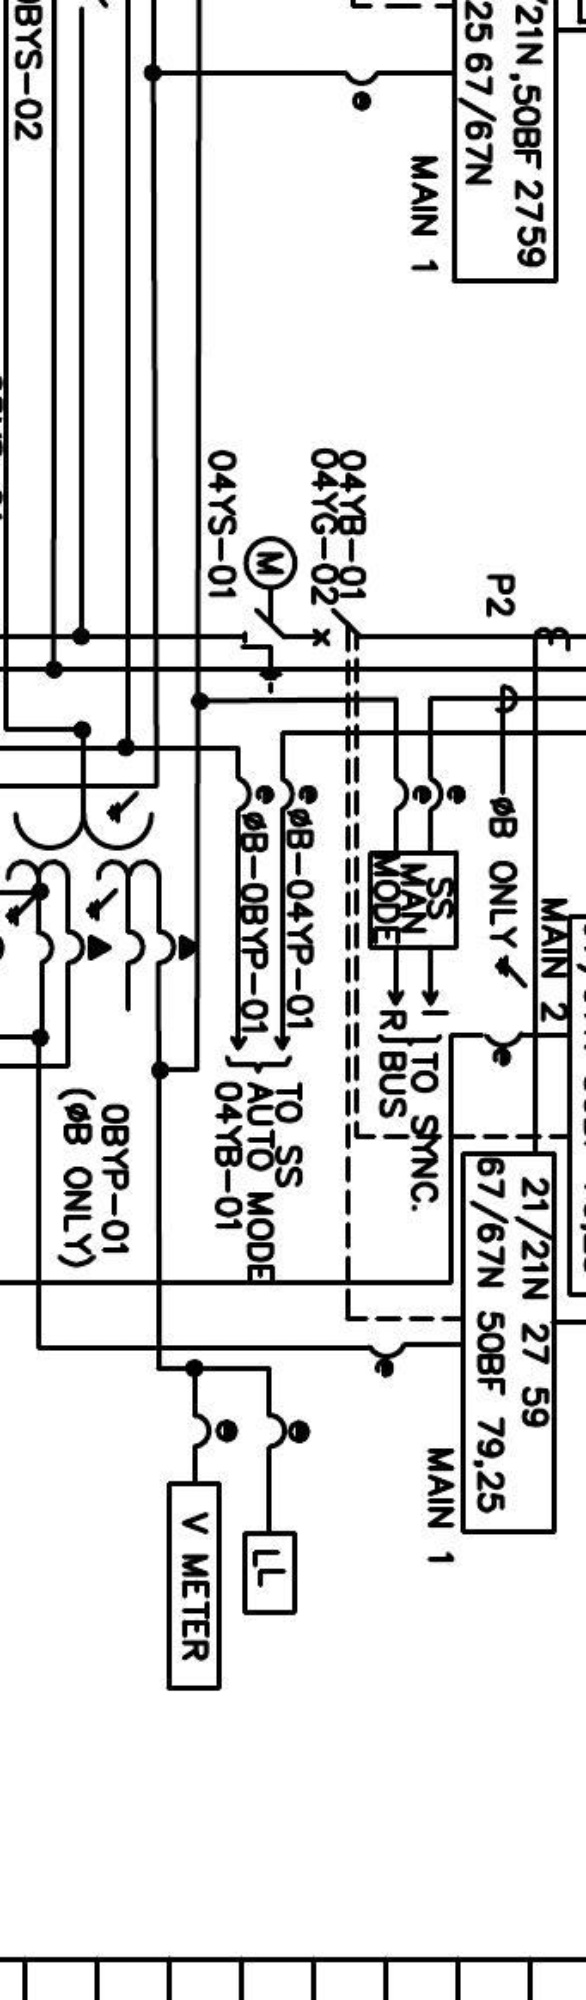115_3ways_ds_w_motor: (239, 534, 299, 695)
115_breaker: (310, 606, 363, 648)
115_vt_1p: (4, 789, 200, 967)
LL: (239, 1528, 300, 1618)
ss_man_mode: (366, 848, 461, 952)
v_m_digital: (164, 1478, 224, 1693)
